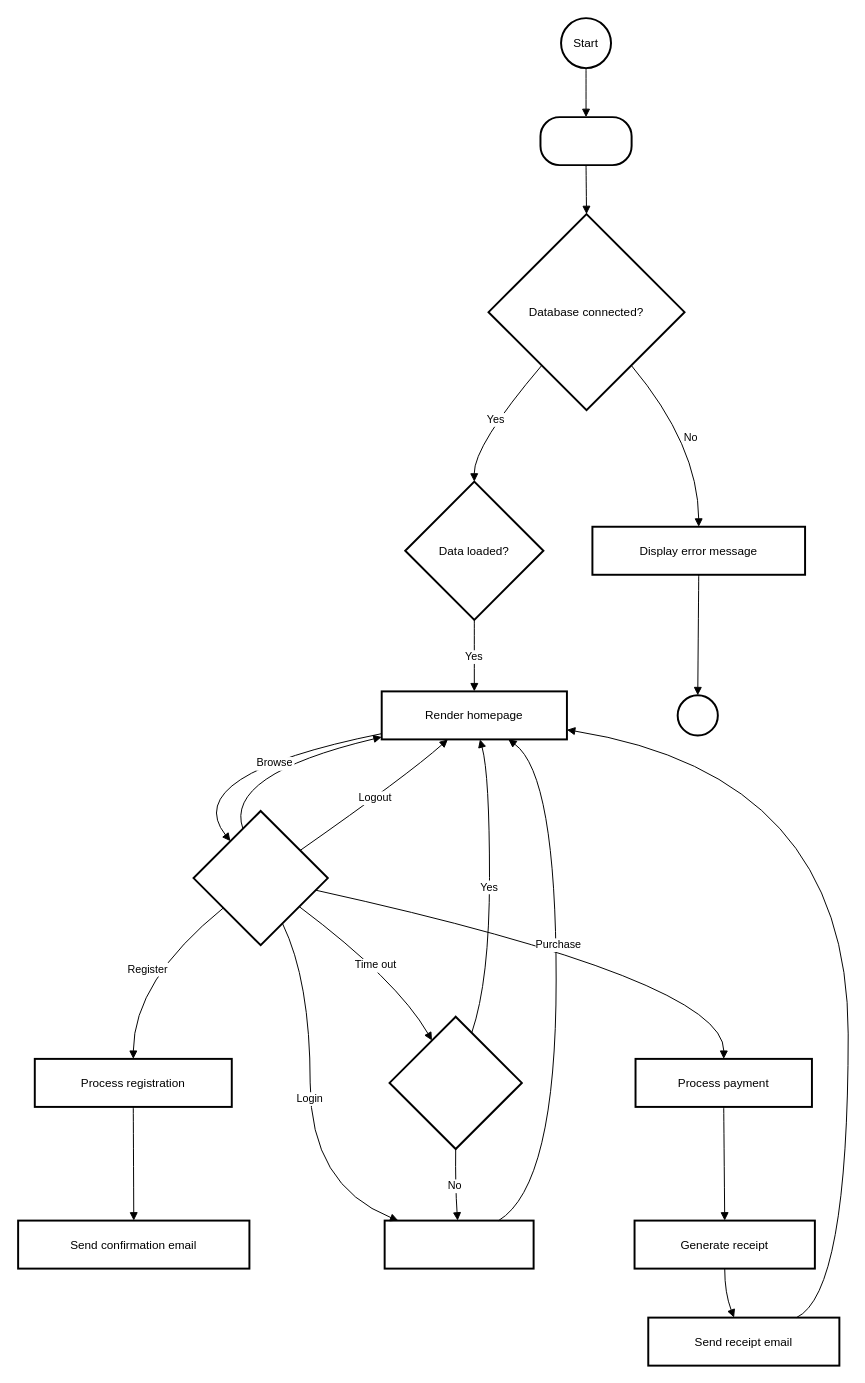
Image size: 865x1383. Some labels were removed from this diagram. Here are the shapes that lost their labels. From the top down, the box of each, then its label:
(539, 116, 632, 166): Initialize
(676, 694, 718, 736): End
(192, 809, 328, 946): User actions
(388, 1015, 522, 1150): User active?
(383, 1219, 534, 1269): Process login
